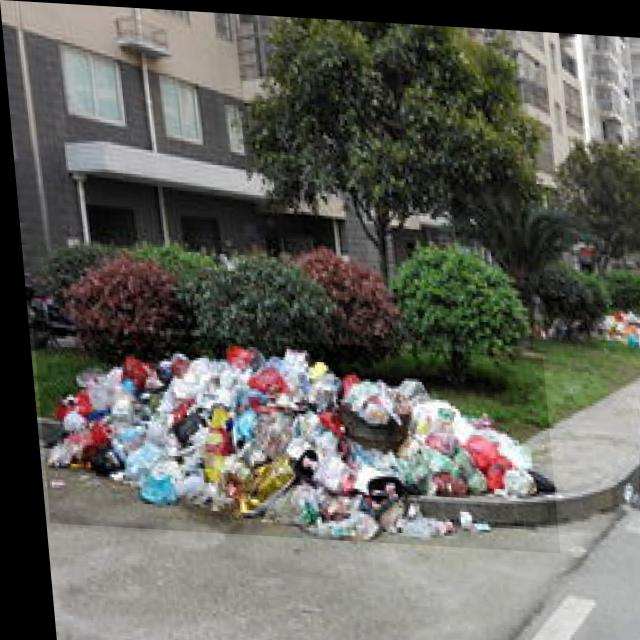garbage: (27, 326, 550, 547), (582, 296, 640, 347)
